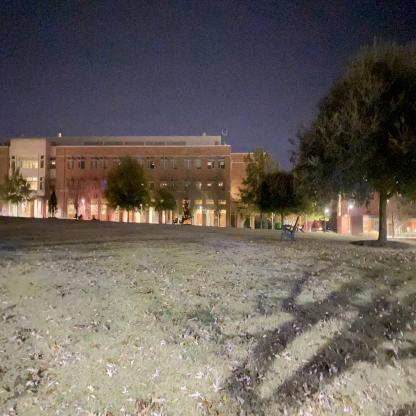eb3: (0, 130, 284, 234)
